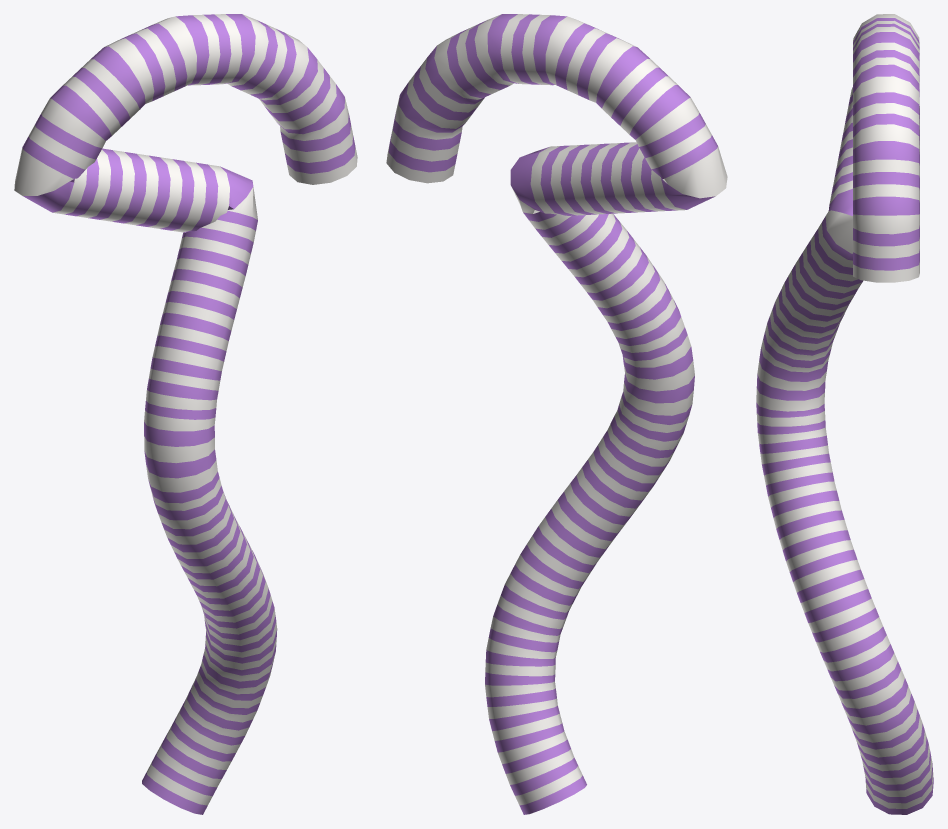
Rendered from CandyPipe_Twist.fbx.
3 renders of one model, left to right at view 1: azimuth 30°, elevation 25°; view 2: azimuth 150°, elevation 25°; view 3: azimuth 270°, elevation 25°, orthographic. The views are drawn at different scales.
Visible parts, largest first — view 1: CandyPipe_Twist; view 2: CandyPipe_Twist; view 3: CandyPipe_Twist.
Boxes of the visible parts, x1=… form: CandyPipe_Twist: x1=14, y1=14, x2=357, y2=814; CandyPipe_Twist: x1=386, y1=14, x2=727, y2=814; CandyPipe_Twist: x1=756, y1=14, x2=933, y2=814.
Bounding box in the file's own units: 8.14 × 18.6 × 3.88.
